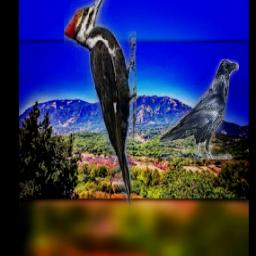Crow: (160, 60, 239, 161)
Woodpecker: (63, 0, 136, 212)
